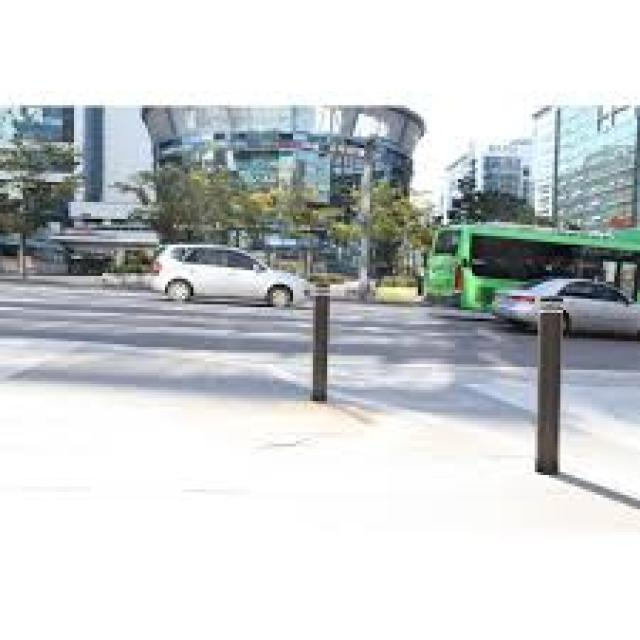bollard: (530, 289, 566, 485), (308, 268, 332, 407)
